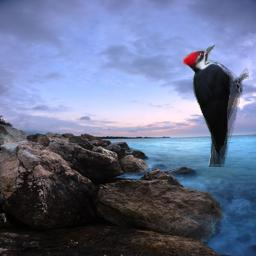Woodpecker: (180, 44, 249, 167)
